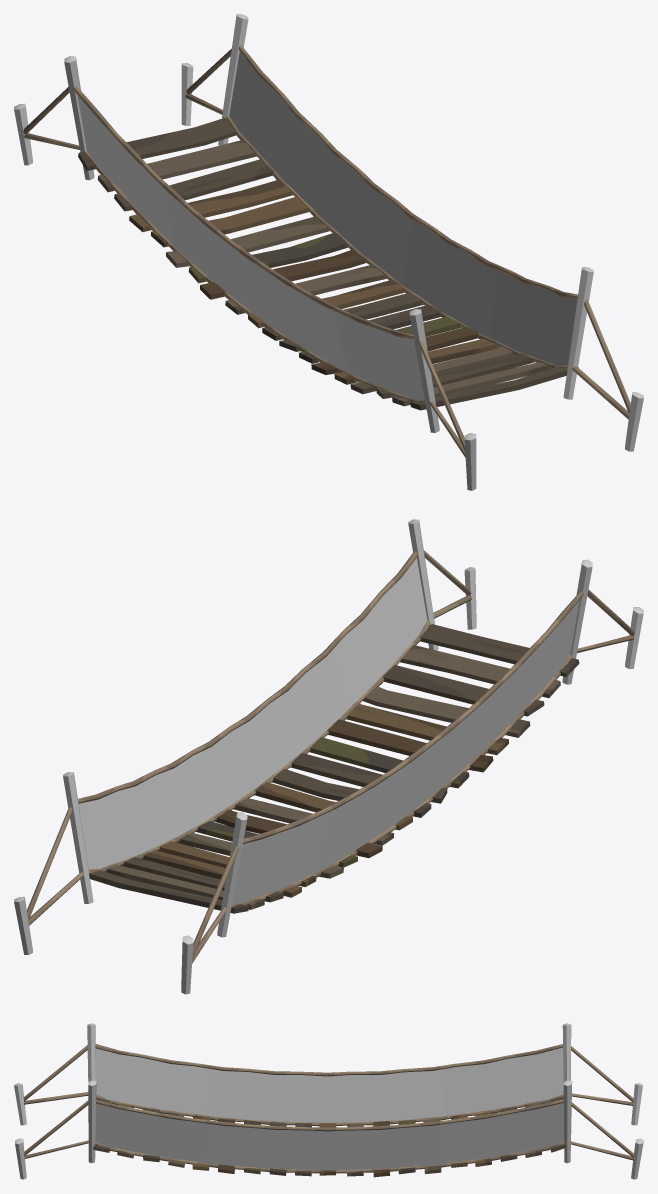
The model's file is SM_Bld_Ropebridge_01.fbx.
3 views of the same model, one above another, from view 1: azimuth 30°, elevation 25°; view 2: azimuth 150°, elevation 25°; view 3: azimuth 270°, elevation 25° (orthographic). The views are drawn at different scales.
Parts seen in each view (by area): view 1: SM_Bld_Ropebridge_01; view 2: SM_Bld_Ropebridge_01; view 3: SM_Bld_Ropebridge_01.
Part boxes in pixels (left/top/right/bottom): SM_Bld_Ropebridge_01: left=14, top=14, right=643, bottom=490; SM_Bld_Ropebridge_01: left=14, top=519, right=643, bottom=994; SM_Bld_Ropebridge_01: left=14, top=1023, right=643, bottom=1179.
Size of the model in its own units: 258 by 193 by 1109.
